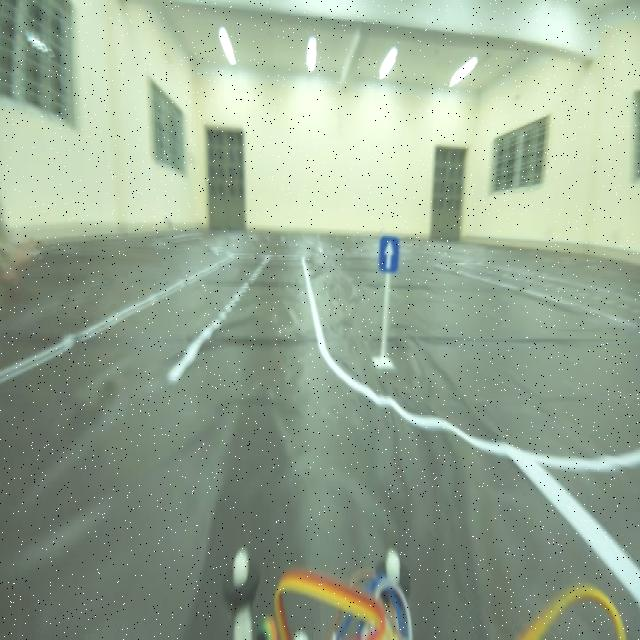onewayroad: (374, 229, 400, 286)
